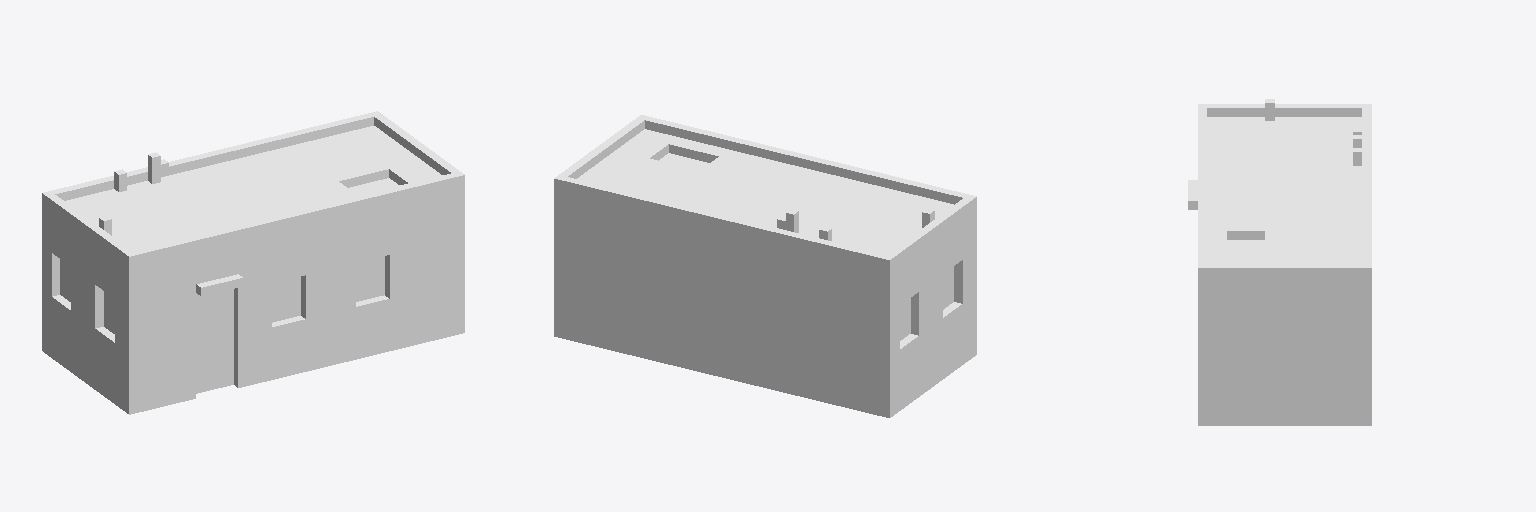
The model's file is small_deserthouse.obj.
The picture shows the model from 3 angles: view 1: azimuth 30°, elevation 25°; view 2: azimuth 150°, elevation 25°; view 3: azimuth 270°, elevation 25°; orthographic projection.
Visible parts, largest first — view 1: object 1; view 2: object 1; view 3: object 1.
Boxes of the visible parts, <box> form: object 1: <box>42,111,464,414</box>; object 1: <box>554,115,976,417</box>; object 1: <box>1188,99,1371,425</box>.
Bounding box in the file's own units: 4 × 2 × 1.9.